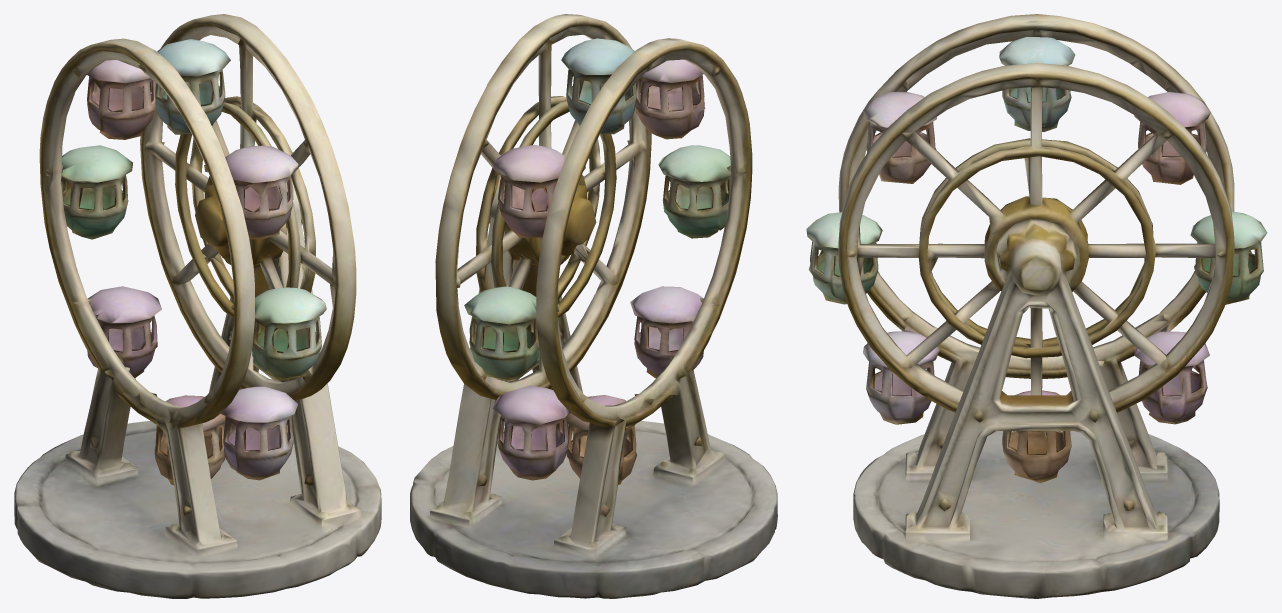
File: deco_ferris.glb
The picture shows the model from 3 angles, left to right: view 1: azimuth 30°, elevation 25°; view 2: azimuth 150°, elevation 25°; view 3: azimuth 270°, elevation 25°; orthographic projection.
Parts seen in each view (by area): view 1: tripo_node_82940acd-91ea-4a5d-bdd2-d055872fa2e9; view 2: tripo_node_82940acd-91ea-4a5d-bdd2-d055872fa2e9; view 3: tripo_node_82940acd-91ea-4a5d-bdd2-d055872fa2e9.
Part boxes in pixels (x1,y1,x2,y2): tripo_node_82940acd-91ea-4a5d-bdd2-d055872fa2e9: (14, 14, 381, 598); tripo_node_82940acd-91ea-4a5d-bdd2-d055872fa2e9: (410, 14, 777, 598); tripo_node_82940acd-91ea-4a5d-bdd2-d055872fa2e9: (806, 14, 1267, 598).
Bounding box in the file's own units: 0.6928 × 1 × 0.8721.
1 material, 1 textured.
